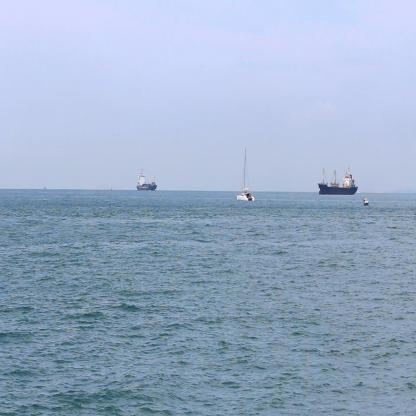Container Ship: (318, 166, 358, 196), (136, 169, 157, 192)
